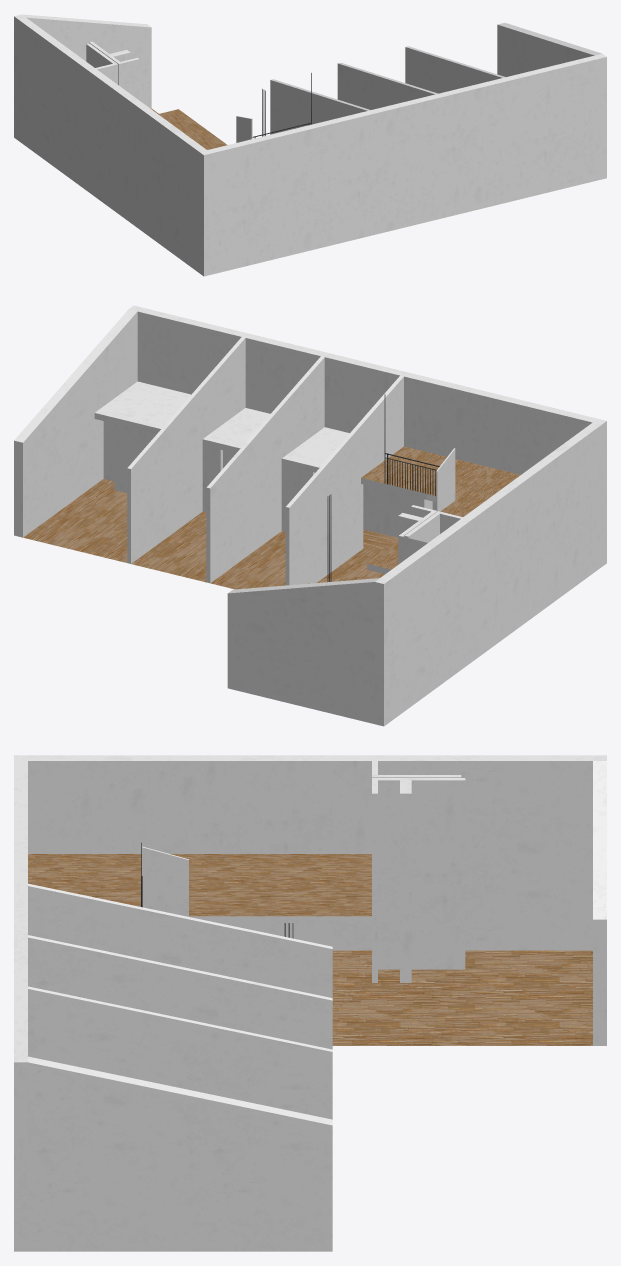
The model's file is haus_4glb.glb.
3 views of the same model, one above another, from view 1: azimuth 30°, elevation 25°; view 2: azimuth 150°, elevation 25°; view 3: azimuth 270°, elevation 25° (orthographic). The views are drawn at different scales.
Visible parts, largest first — view 1: Plane, Galerie Wohnbereich Boden; view 2: Plane, Plane.004, Galerie Wohnbereich Boden, Geländer Galerie; view 3: Plane, Plane.004, Galerie Wohnbereich Boden.
Part boxes in pixels (x1,y1,x2,y2): Plane: (14,14,606,276); Galerie Wohnbereich Boden: (158,109,227,149); Plane: (14,305,606,726); Plane.004: (23,479,398,589); Galerie Wohnbereich Boden: (361,446,520,569); Geländer Galerie: (384,394,439,495); Plane: (14,755,606,1251); Plane.004: (332,950,592,1045); Galerie Wohnbereich Boden: (28,854,371,916).
Bounding box in the file's own units: 15.65 × 5.1 × 12.77.
Materials: 4 (3 with a texture image).
